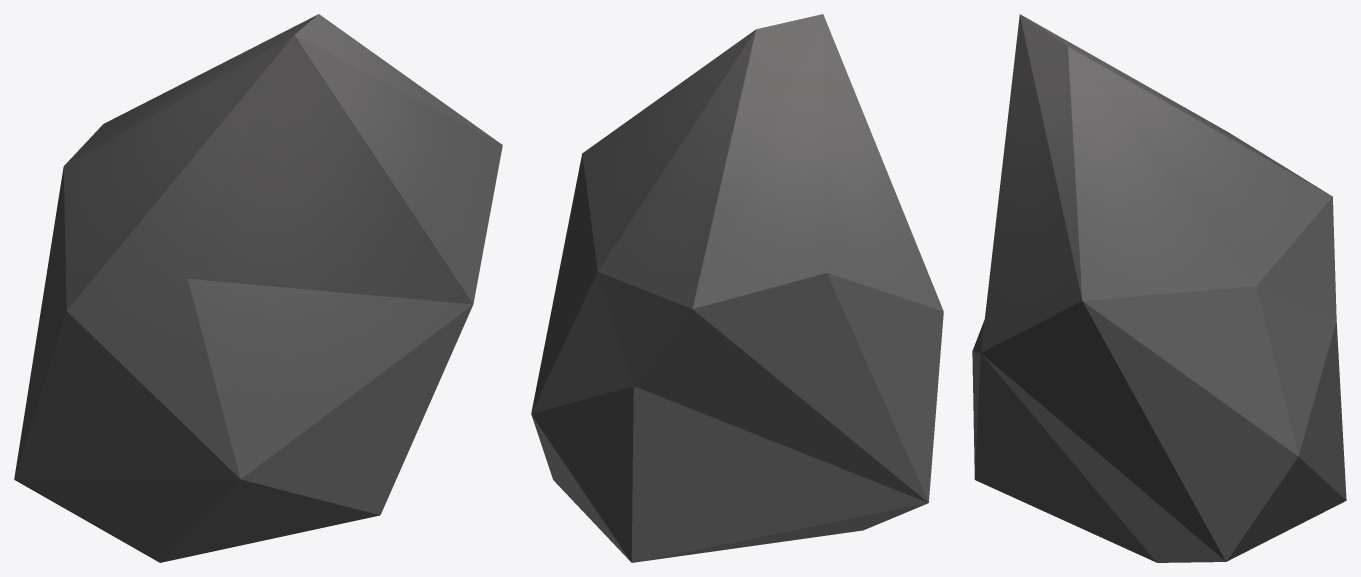
The model's file is rock1.gltf.
3 views of the same model, side by side, from view 1: azimuth 30°, elevation 25°; view 2: azimuth 150°, elevation 25°; view 3: azimuth 270°, elevation 25° (orthographic). The views are drawn at different scales.
Parts seen in each view (by area): view 1: Rock1_low; view 2: Rock1_low; view 3: Rock1_low.
Boxes of the visible parts, box(x1,y1,x2,y2) form: Rock1_low: box(14, 14, 502, 562); Rock1_low: box(531, 14, 943, 562); Rock1_low: box(972, 14, 1346, 562).
Bounding box in the file's own units: 4.73 × 5.64 × 3.77.
1 material, 1 textured.
